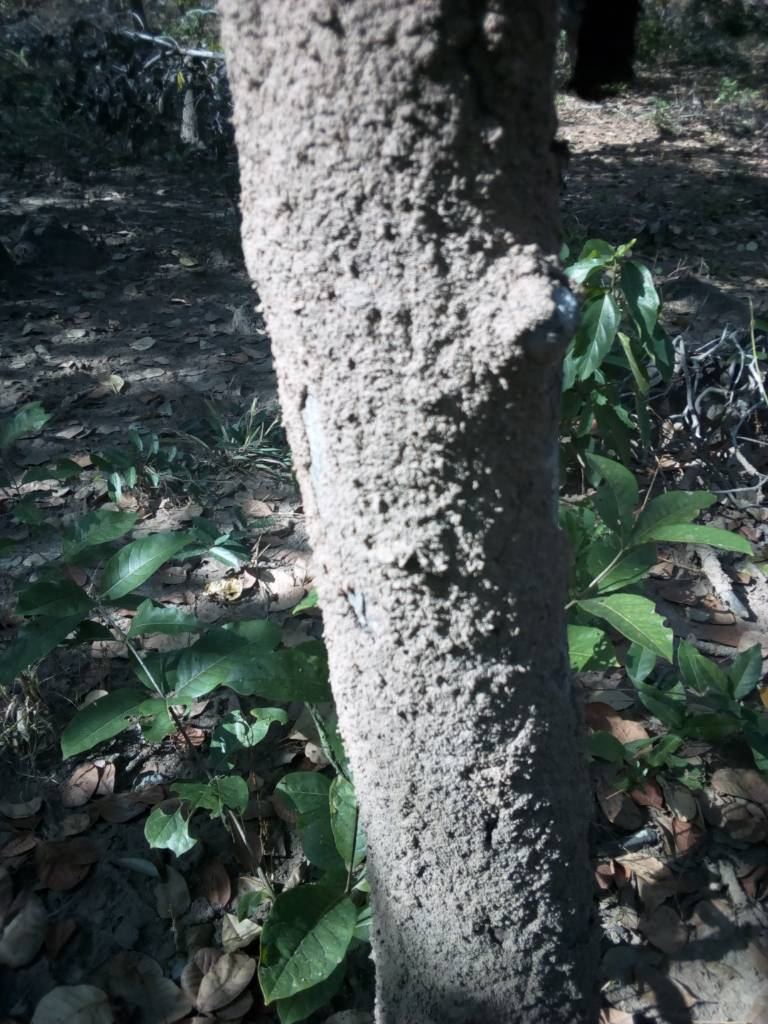Virose: (186, 17, 691, 1019)
